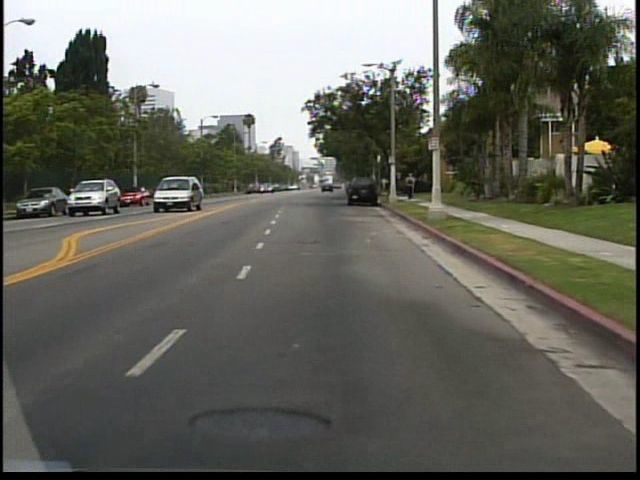person: (406, 170, 419, 201), (405, 174, 414, 201)
